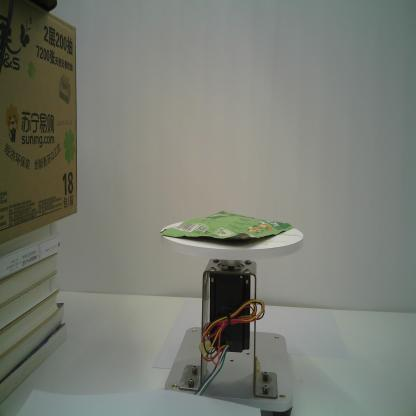Seasoner: (160, 209, 295, 243)
